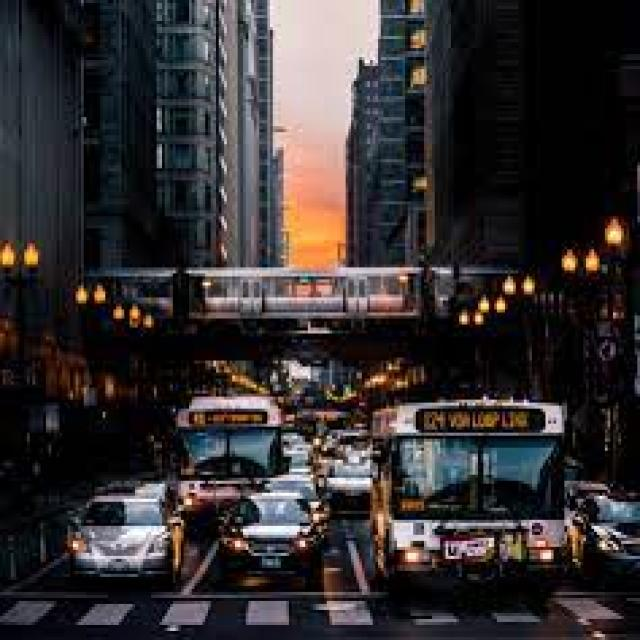bus: (370, 400, 562, 610), (178, 397, 278, 517)
car: (73, 487, 170, 577), (219, 493, 319, 577), (567, 493, 637, 586)
